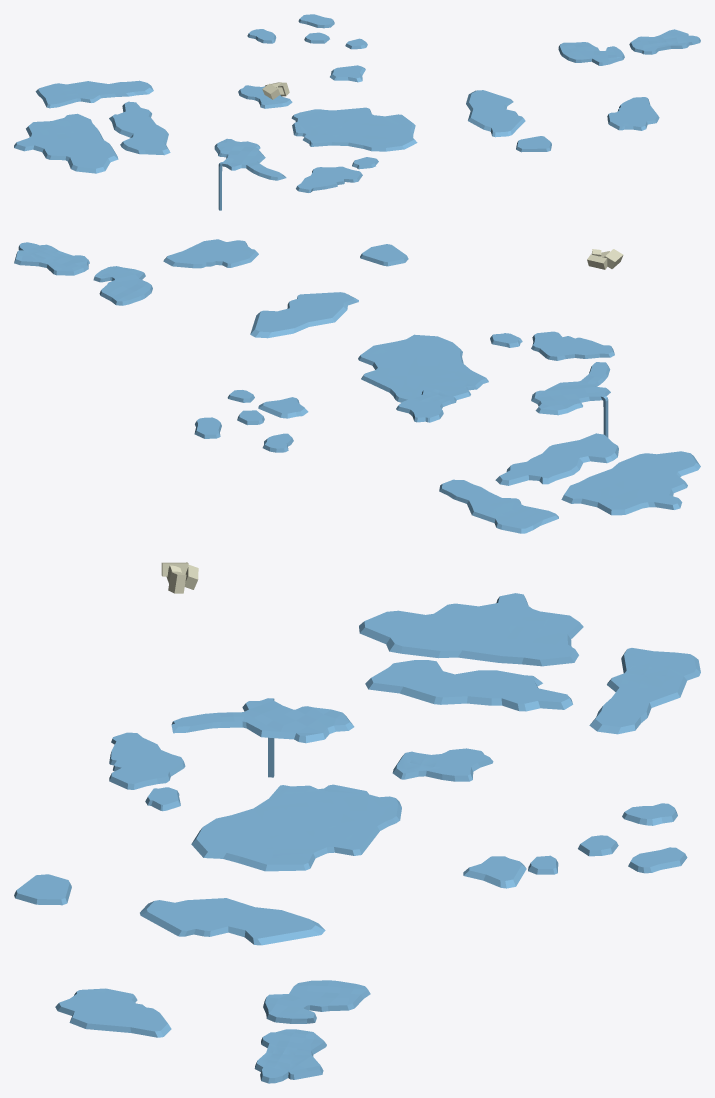
Rendered from Grot_Puddles.fbx.
The picture shows the model from 3 angles, top to bottom: view 1: azimuth 30°, elevation 25°; view 2: azimuth 150°, elevation 25°; view 3: azimuth 270°, elevation 25°; orthographic projection. The views are drawn at different scales.
Parts seen in each view (by area): view 1: PuddleButterfly, PuddleAwesome, PuddleAwesome.001, Waterfall, PuddleLong, PuddleG, PuddleF, PuddleH, PuddleC, PuddleI, PudleE_MicroB, PuddleD (+2 smaller); view 2: PuddleButterfly, PuddleAwesome, PuddleAwesome.001, Waterfall, PuddleLong, PuddleG, PuddleF, PuddleC, PuddleH, PuddleI, PuddleD, PudleE_MicroB (+3 smaller); view 3: PuddleButterfly, PuddleAwesome, PuddleAwesome.001, Waterfall, PuddleG, PuddleLong, PuddleF, PuddleH, PuddleC, PuddleI, PuddleD, PudleE_MicroB (+3 smaller).
Boxes of the visible parts, x1,y1,x2,y2 form: PuddleButterfly: (291, 107, 417, 151); PuddleAwesome: (14, 113, 118, 173); PuddleAwesome.001: (109, 101, 170, 155); Waterfall: (214, 82, 289, 210); PuddleLong: (35, 80, 153, 108); PuddleG: (466, 90, 525, 137); PuddleF: (607, 97, 659, 130); PuddleH: (558, 42, 624, 65); PuddleC: (296, 166, 362, 192); PuddleI: (629, 29, 700, 54); PudleE_MicroB: (298, 14, 367, 49); PuddleD: (238, 85, 292, 108); PuddleButterfly: (358, 334, 488, 402); PuddleAwesome: (561, 451, 700, 515); PuddleAwesome.001: (495, 433, 618, 485); Waterfall: (531, 249, 623, 437); PuddleLong: (439, 479, 558, 533); PuddleG: (250, 292, 358, 338); PuddleF: (163, 239, 258, 268); PuddleC: (531, 331, 614, 360); PuddleH: (93, 266, 152, 305); PuddleI: (14, 242, 89, 275); PuddleD: (396, 389, 456, 422); PudleE_MicroB: (194, 390, 264, 438); PuddleButterfly: (191, 784, 401, 871); PuddleAwesome: (359, 593, 583, 666); PuddleAwesome.001: (365, 660, 572, 711); Waterfall: (161, 562, 354, 777); PuddleG: (140, 898, 325, 945); PuddleLong: (589, 648, 700, 734); PuddleF: (55, 988, 171, 1037); PuddleH: (263, 980, 370, 1023); PuddleC: (109, 732, 185, 789); PuddleI: (254, 1029, 326, 1083); PuddleD: (392, 748, 493, 781); PudleE_MicroB: (528, 835, 687, 874).
Size of the model in its own units: 5768 by 1244 by 3307.
